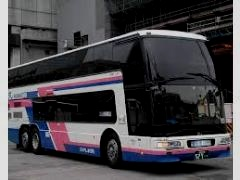bus: (10, 31, 225, 169)
